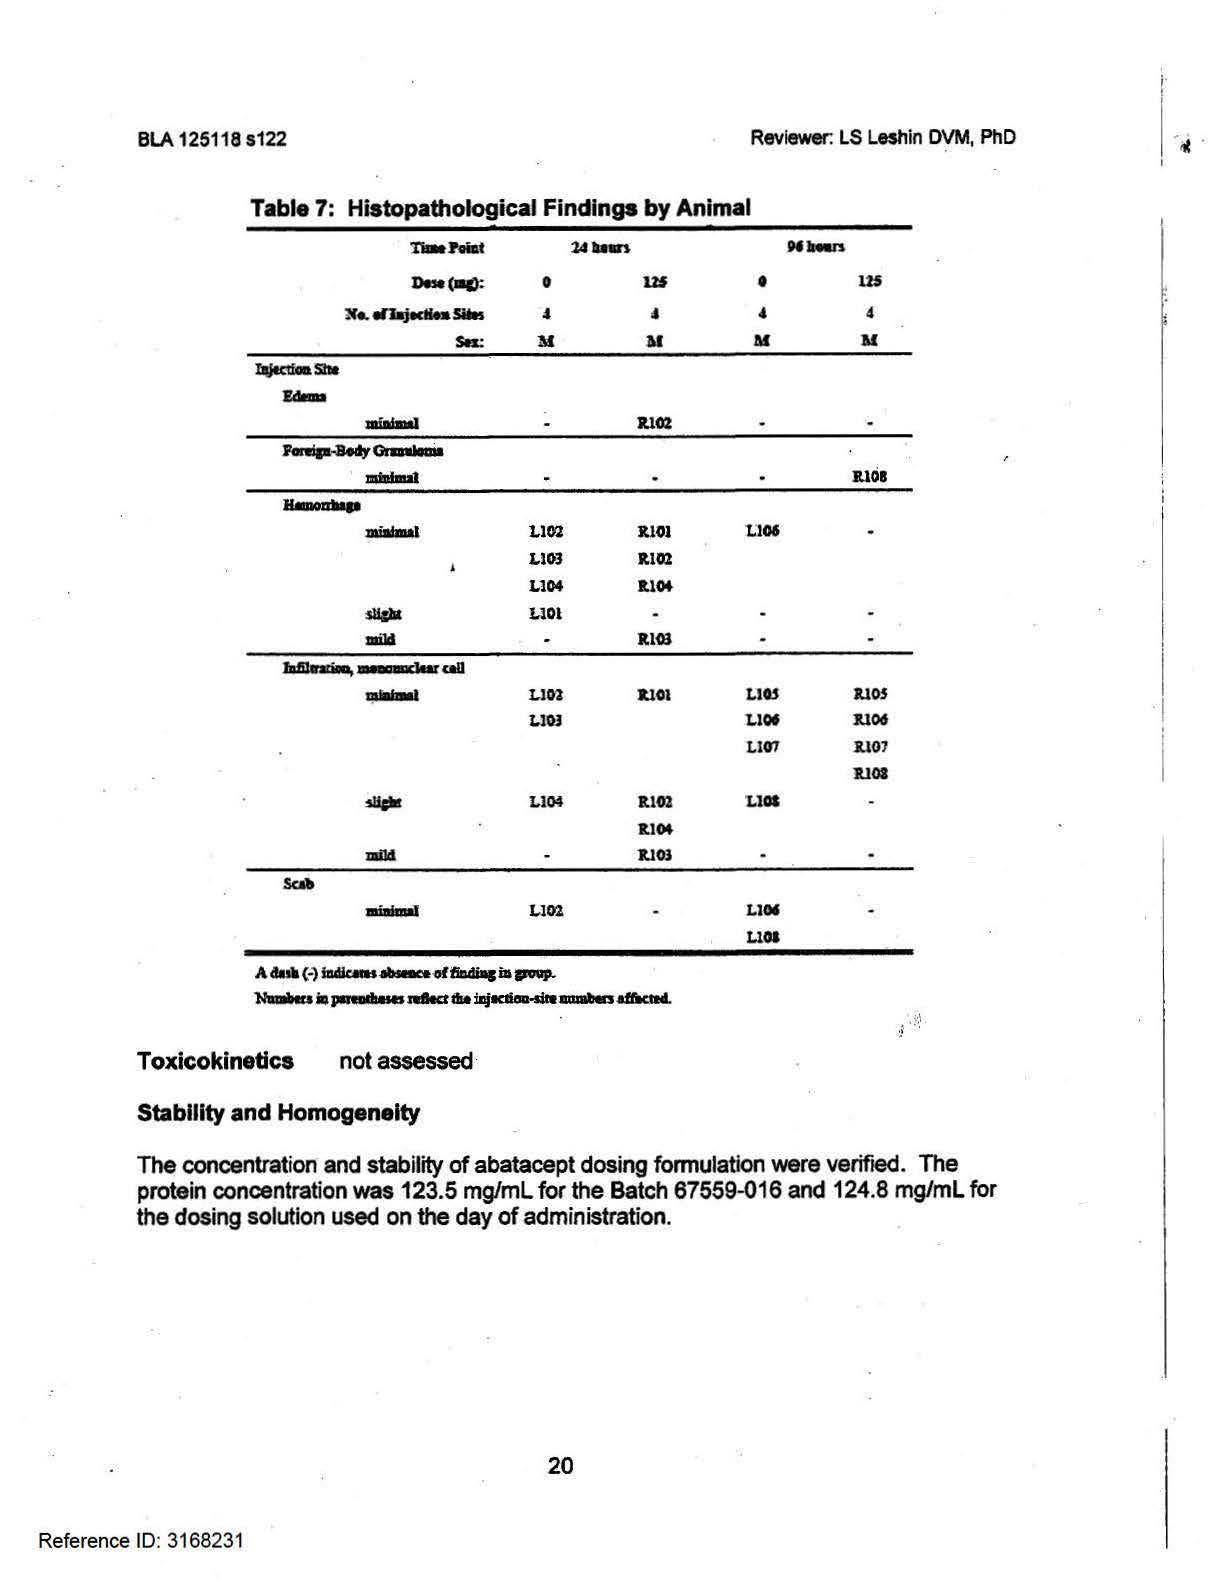partial_lined_merged_cells: (244, 222, 914, 957)
